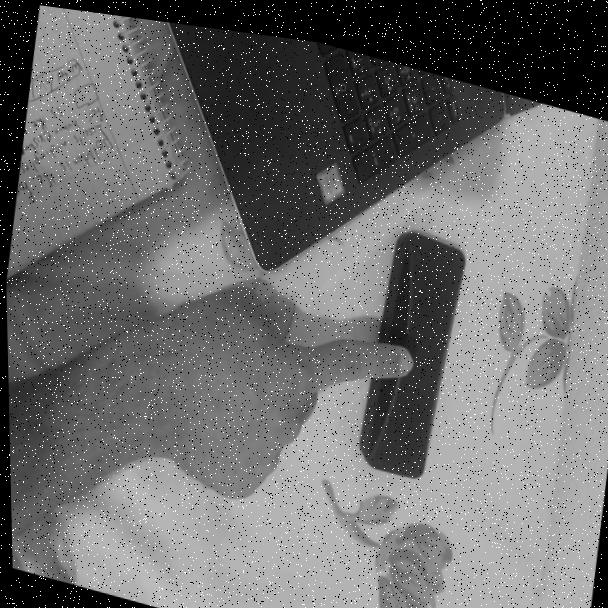one: (84, 232, 431, 548)
